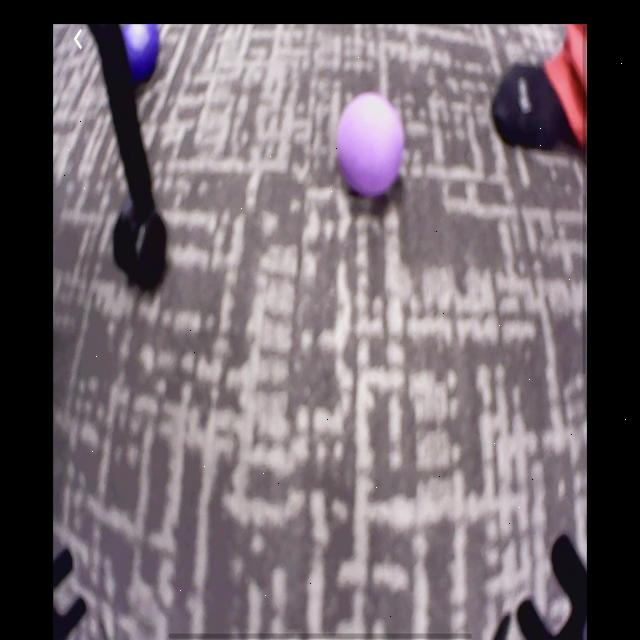ball: (336, 95, 403, 201), (123, 26, 161, 83)
